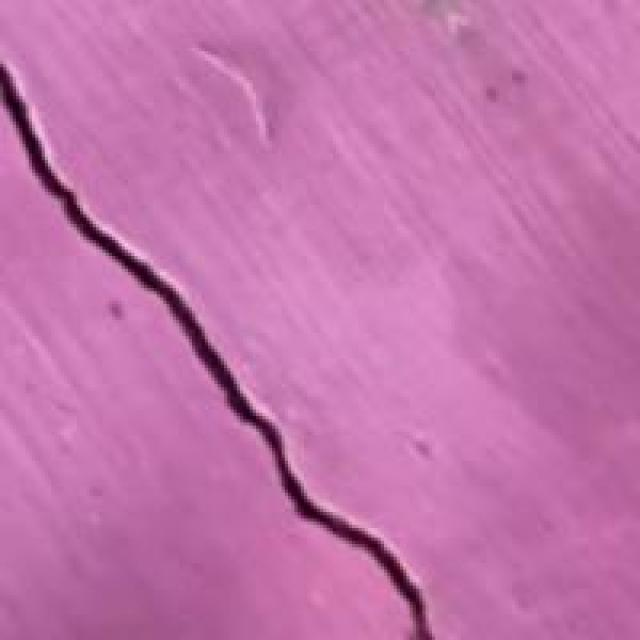crack: (0, 61, 442, 637)
